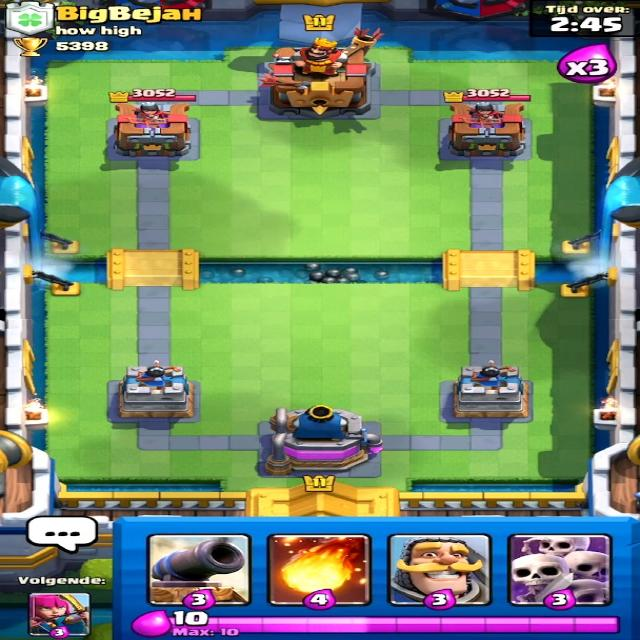Cannon_Card: (148, 532, 247, 604)
Fireball_Card: (267, 534, 364, 605)
